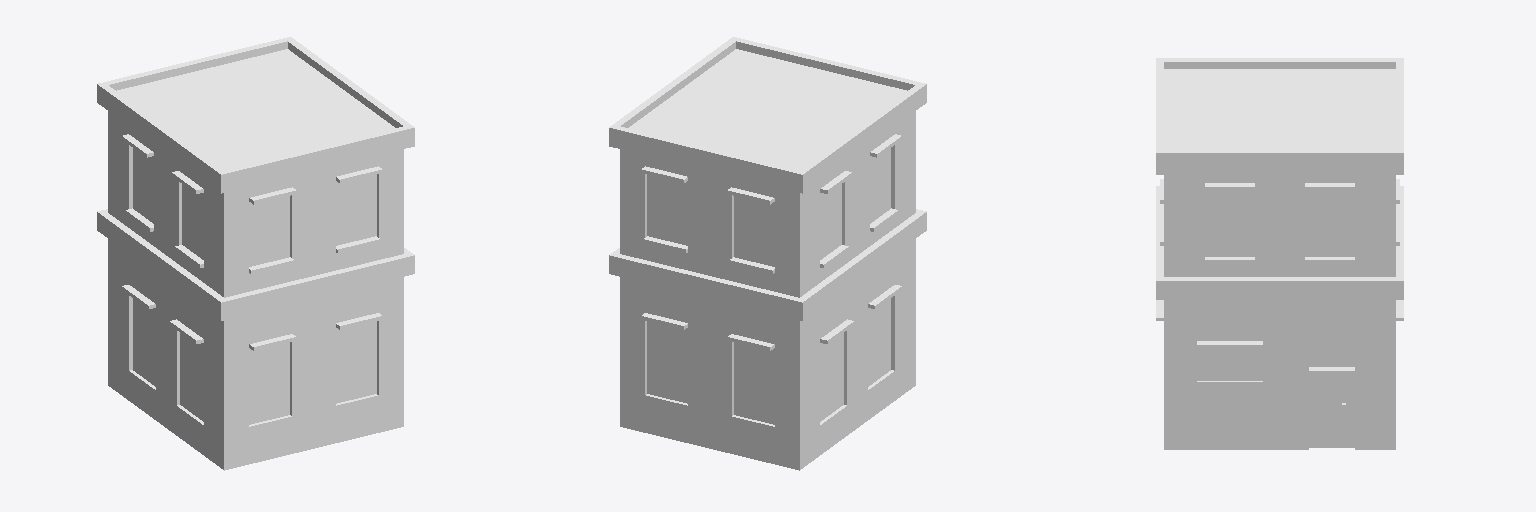
Rendered from building3.obj.
The picture shows the model from 3 angles: view 1: azimuth 30°, elevation 25°; view 2: azimuth 150°, elevation 25°; view 3: azimuth 270°, elevation 25°; orthographic projection.
Visible parts, largest first — view 1: object 1; view 2: object 1; view 3: object 1.
Boxes of the visible parts, box(x1,y1,x2,y2) form: object 1: box(97, 37, 414, 470); object 1: box(609, 37, 926, 470); object 1: box(1156, 58, 1403, 449).
Size of the model in its own units: 5.4 by 8 by 6.